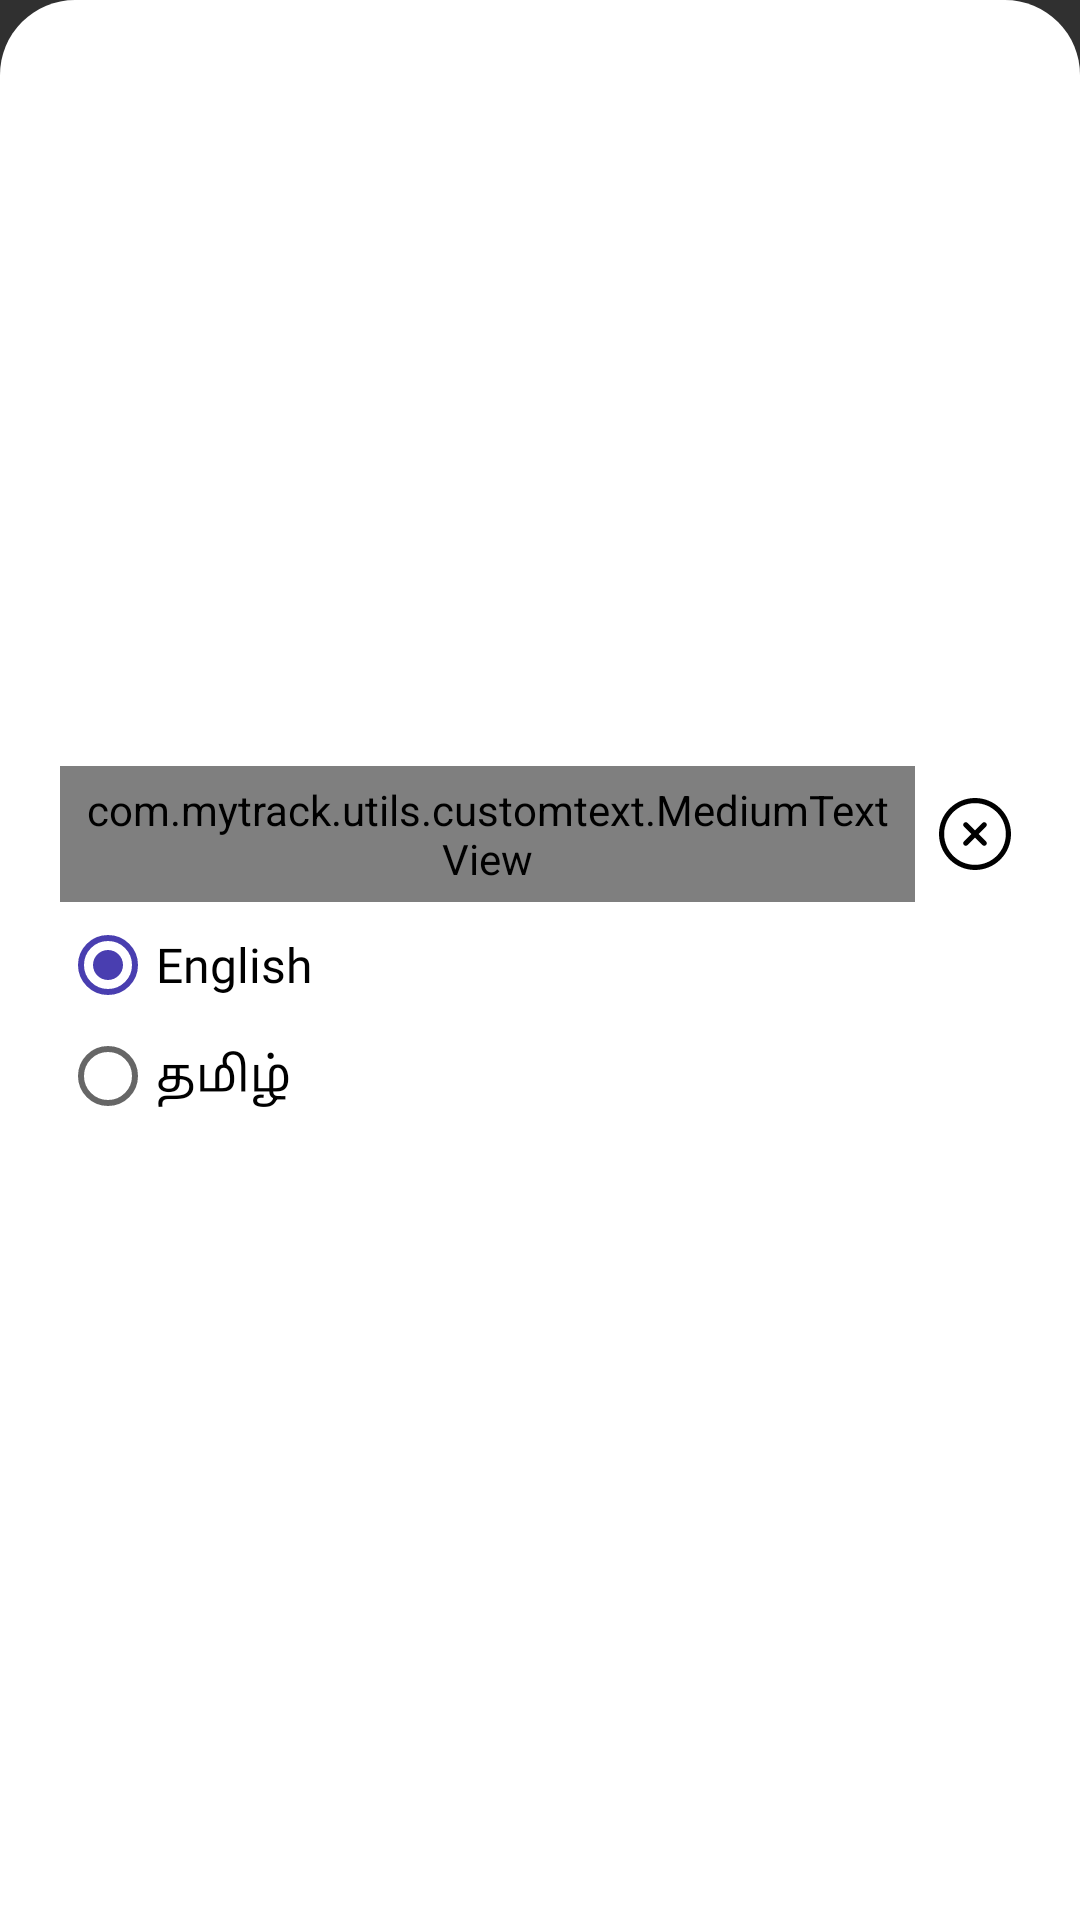

Icons on this 1080×1920 Android screen, each with its box as (left=x1, top=y1, right=x2, bottom=y2):
close: (left=939, top=798, right=1011, bottom=870)
